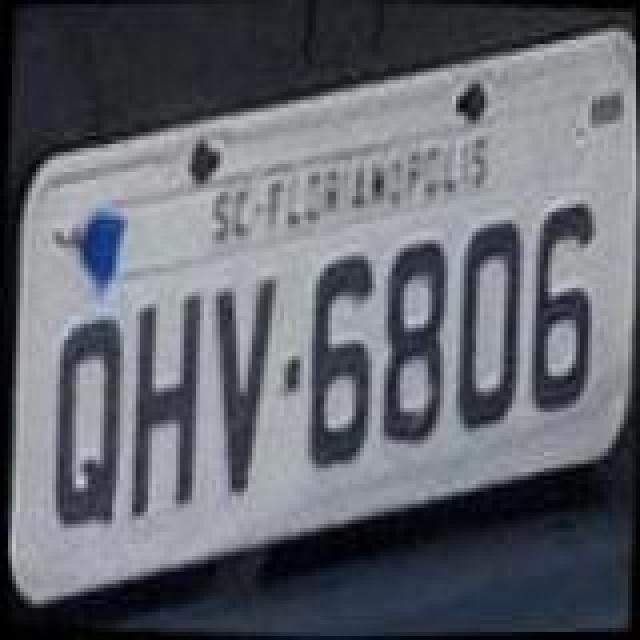6: (296, 254, 380, 478), (522, 200, 602, 416)
8: (374, 234, 454, 446)
H: (124, 288, 212, 524)
O: (448, 214, 532, 434)
Q: (44, 308, 132, 532)
V: (204, 272, 284, 496)
